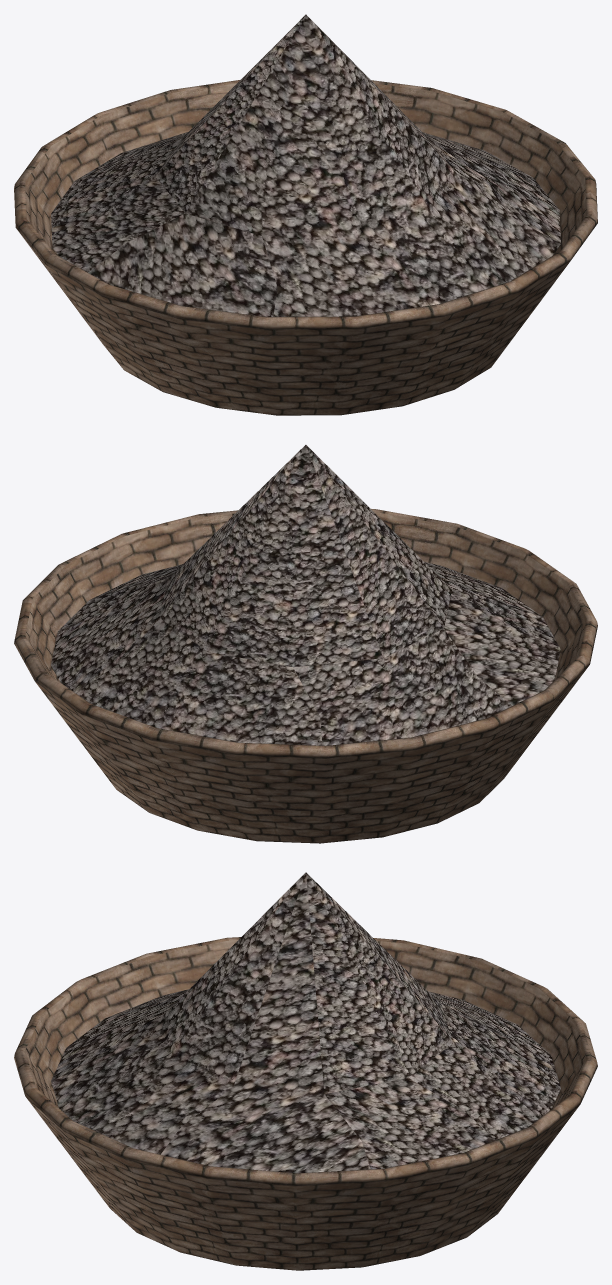
The model's file is Wicker_Basket_02_07.glb.
3 renders of one model, top to bottom at view 1: azimuth 30°, elevation 25°; view 2: azimuth 150°, elevation 25°; view 3: azimuth 270°, elevation 25°, orthographic.
Parts seen in each view (by area): view 1: Wicker_Basket_02_07; view 2: Wicker_Basket_02_07; view 3: Wicker_Basket_02_07.
Part boxes in pixels (box(x1,y1,x2,y2)): Wicker_Basket_02_07: box(14, 14, 597, 415); Wicker_Basket_02_07: box(14, 445, 597, 843); Wicker_Basket_02_07: box(14, 872, 597, 1270).
Size of the model in its own units: 0.4492 by 0.265 by 0.4492.
Materials: 2 (2 with a texture image).
